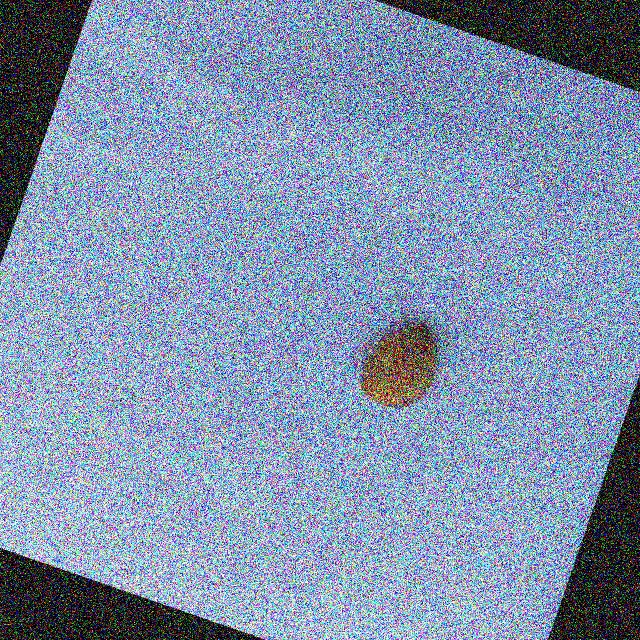grade2: (346, 305, 453, 422)
